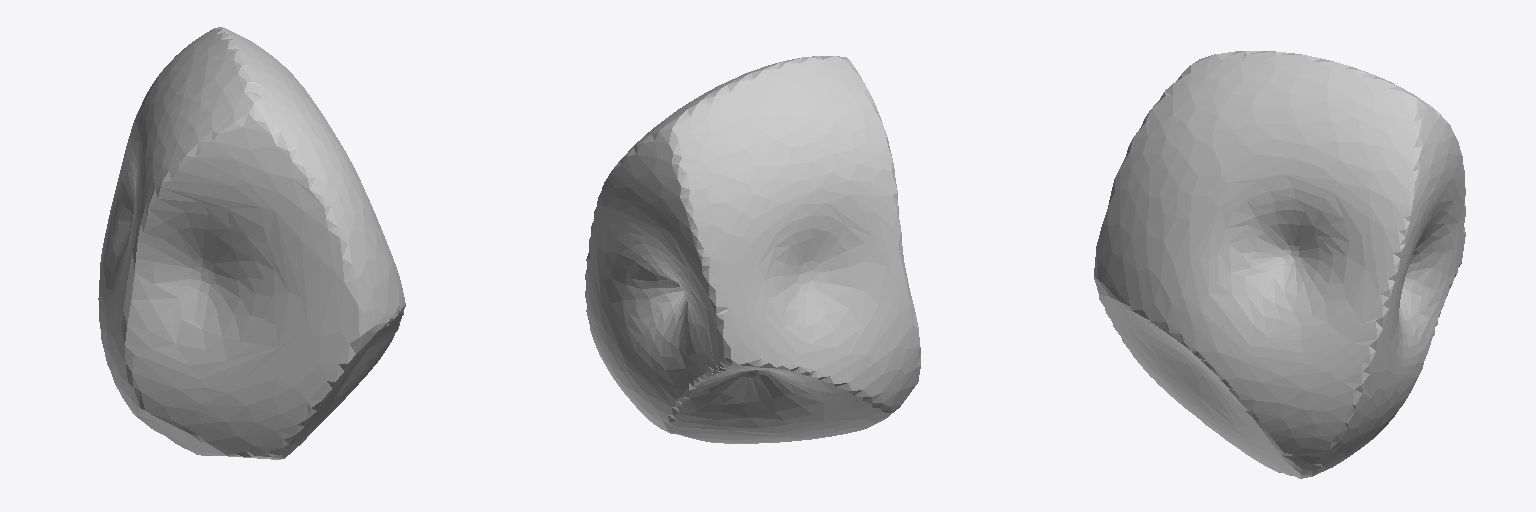
The model's file is rock1.obj.
3 views of the same model, side by side, from view 1: azimuth 30°, elevation 25°; view 2: azimuth 150°, elevation 25°; view 3: azimuth 270°, elevation 25° (orthographic).
Parts seen in each view (by area): view 1: Cube; view 2: Cube; view 3: Cube.
Boxes of the visible parts, x1,y1,x2,y2 form: Cube: [98, 27, 405, 459]; Cube: [585, 56, 920, 443]; Cube: [1094, 51, 1465, 478].
Size of the model in its own units: 1.64 by 2.19 by 1.87.